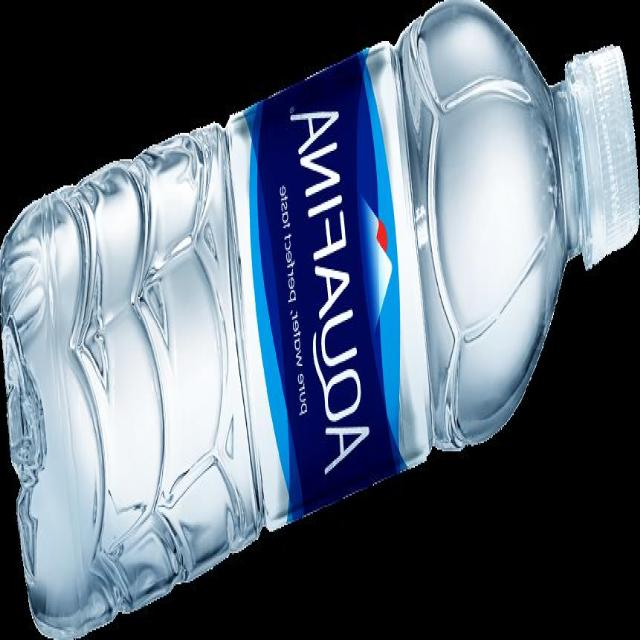bottle: (3, 5, 640, 638)
